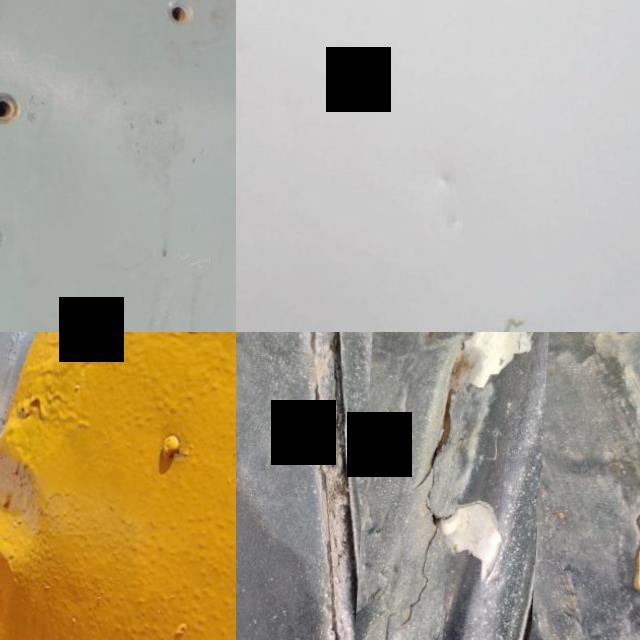Crack: (359, 332, 554, 640)
Dent: (0, 418, 85, 600), (440, 170, 461, 188), (452, 212, 468, 227), (236, 44, 249, 58)
Missing_Fastener: (0, 74, 42, 143), (152, 0, 210, 40), (0, 210, 22, 272)
